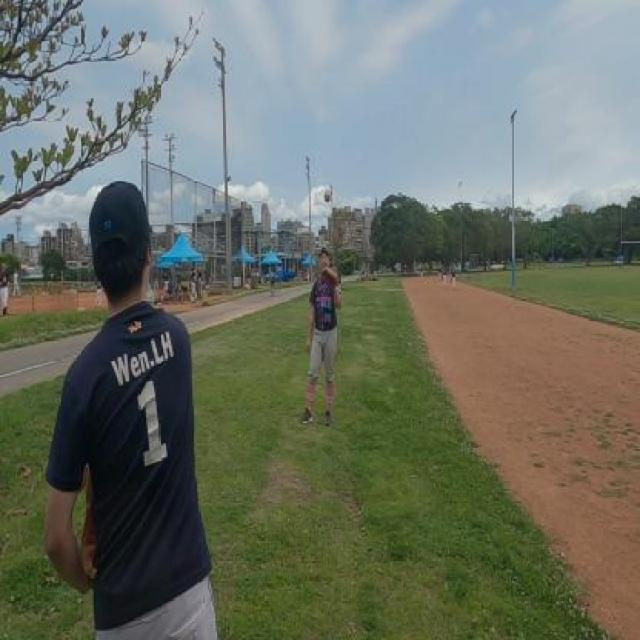baseball: (324, 188, 331, 202)
